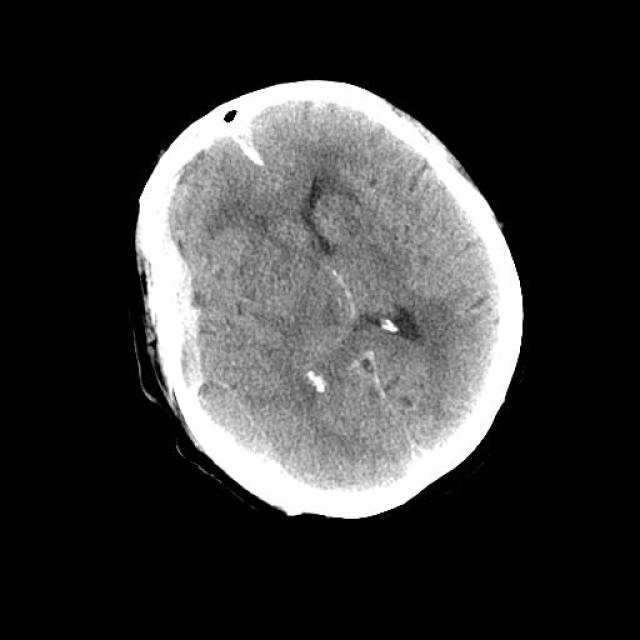Subdural: (160, 162, 236, 392), (228, 119, 268, 175)
